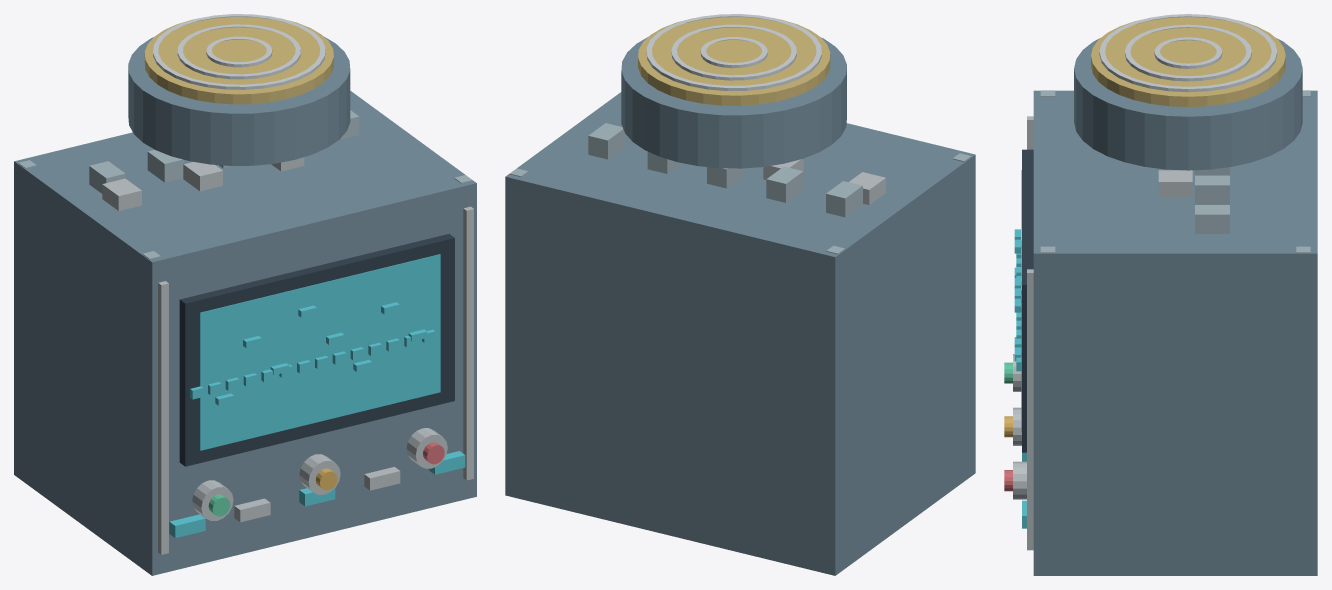
Rendered from 35_L72_QuartzCrystalMicrobalance.glb.
The picture shows the model from 3 angles, left to right: view 1: azimuth 30°, elevation 25°; view 2: azimuth 150°, elevation 25°; view 3: azimuth 270°, elevation 25°; orthographic projection. The views are drawn at different scales.
Parts seen in each view (by area): view 1: QuartzCrystalMicrobalance_Part_000, QuartzCrystalMicrobalance_Part_008, QuartzCrystalMicrobalance_Part_036, QuartzCrystalMicrobalance_Part_007, QuartzCrystalMicrobalance_Part_037, QuartzCrystalMicrobalance_Part_005, QuartzCrystalMicrobalance_Part_006, QuartzCrystalMicrobalance_Part_040, QuartzCrystalMicrobalance_Part_039, QuartzCrystalMicrobalance_Part_023, QuartzCrystalMicrobalance_Part_021, QuartzCrystalMicrobalance_Part_017 (+8 smaller); view 2: QuartzCrystalMicrobalance_Part_000, QuartzCrystalMicrobalance_Part_036, QuartzCrystalMicrobalance_Part_037, QuartzCrystalMicrobalance_Part_040, QuartzCrystalMicrobalance_Part_039, QuartzCrystalMicrobalance_Part_027, QuartzCrystalMicrobalance_Part_030, QuartzCrystalMicrobalance_Part_026, QuartzCrystalMicrobalance_Part_038, QuartzCrystalMicrobalance_Part_023, QuartzCrystalMicrobalance_Part_028; view 3: QuartzCrystalMicrobalance_Part_000, QuartzCrystalMicrobalance_Part_036, QuartzCrystalMicrobalance_Part_037, QuartzCrystalMicrobalance_Part_007, QuartzCrystalMicrobalance_Part_040, QuartzCrystalMicrobalance_Part_006, QuartzCrystalMicrobalance_Part_039, QuartzCrystalMicrobalance_Part_029, QuartzCrystalMicrobalance_Part_030, QuartzCrystalMicrobalance_Part_025, QuartzCrystalMicrobalance_Part_038, QuartzCrystalMicrobalance_Part_021.
Boxes of the visible parts, x1,y1,x2,y2 form: QuartzCrystalMicrobalance_Part_000: (14, 91, 476, 575); QuartzCrystalMicrobalance_Part_008: (200, 254, 440, 450); QuartzCrystalMicrobalance_Part_036: (128, 36, 350, 165); QuartzCrystalMicrobalance_Part_007: (179, 234, 454, 466); QuartzCrystalMicrobalance_Part_037: (144, 17, 333, 104); QuartzCrystalMicrobalance_Part_005: (158, 281, 168, 554); QuartzCrystalMicrobalance_Part_006: (463, 206, 473, 480); QuartzCrystalMicrobalance_Part_040: (153, 14, 325, 89); QuartzCrystalMicrobalance_Part_039: (177, 24, 300, 79); QuartzCrystalMicrobalance_Part_023: (102, 178, 141, 210); QuartzCrystalMicrobalance_Part_021: (406, 428, 447, 468); QuartzCrystalMicrobalance_Part_017: (192, 480, 233, 520); QuartzCrystalMicrobalance_Part_000: (505, 92, 975, 575); QuartzCrystalMicrobalance_Part_036: (621, 36, 846, 168); QuartzCrystalMicrobalance_Part_037: (638, 17, 830, 105); QuartzCrystalMicrobalance_Part_040: (646, 14, 821, 90); QuartzCrystalMicrobalance_Part_039: (671, 24, 796, 80); QuartzCrystalMicrobalance_Part_027: (766, 166, 803, 202); QuartzCrystalMicrobalance_Part_030: (588, 123, 625, 159); QuartzCrystalMicrobalance_Part_026: (826, 181, 862, 217); QuartzCrystalMicrobalance_Part_038: (700, 37, 767, 68); QuartzCrystalMicrobalance_Part_023: (849, 172, 885, 204); QuartzCrystalMicrobalance_Part_028: (707, 167, 743, 188); QuartzCrystalMicrobalance_Part_000: (1033, 90, 1317, 575); QuartzCrystalMicrobalance_Part_036: (1074, 38, 1302, 170); QuartzCrystalMicrobalance_Part_037: (1091, 17, 1285, 106); QuartzCrystalMicrobalance_Part_007: (1022, 149, 1033, 452); QuartzCrystalMicrobalance_Part_040: (1099, 14, 1277, 92); QuartzCrystalMicrobalance_Part_006: (1027, 269, 1033, 550); QuartzCrystalMicrobalance_Part_039: (1125, 24, 1251, 81); QuartzCrystalMicrobalance_Part_029: (1195, 175, 1229, 204); QuartzCrystalMicrobalance_Part_030: (1195, 205, 1229, 233); QuartzCrystalMicrobalance_Part_025: (1158, 170, 1192, 197); QuartzCrystalMicrobalance_Part_038: (1154, 37, 1222, 68); QuartzCrystalMicrobalance_Part_021: (1013, 461, 1026, 499).
Bounding box in the file's own units: 0.91 × 1.15 × 0.7393.
